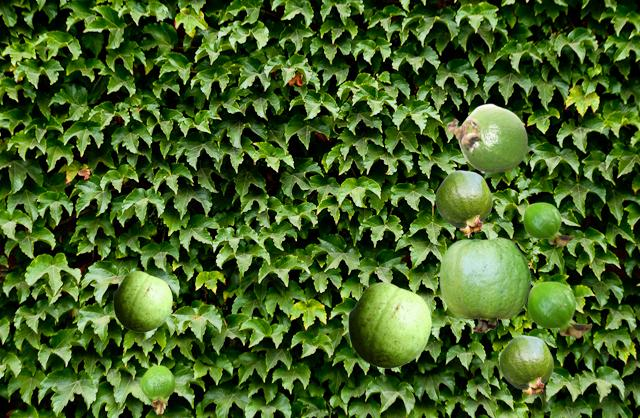guava: (439, 237, 530, 331), (348, 282, 430, 367), (446, 103, 527, 172), (527, 281, 591, 337), (435, 170, 491, 234), (113, 271, 171, 331), (499, 335, 552, 395), (523, 202, 573, 245), (141, 365, 174, 413)
